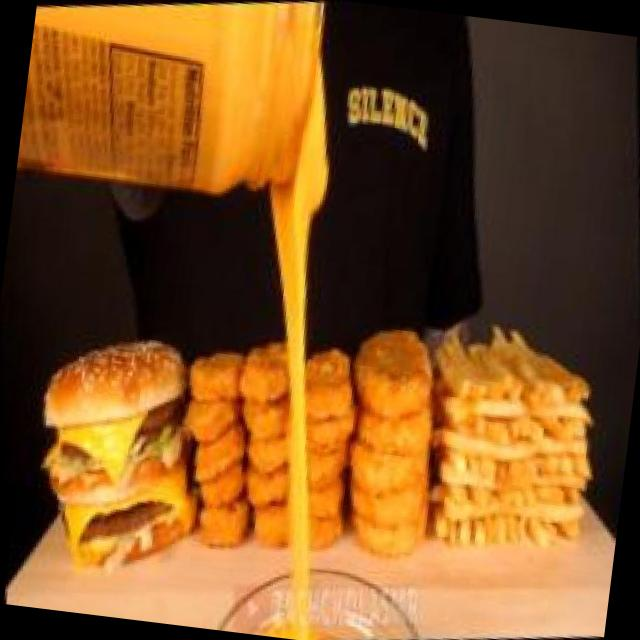Hashbrown: (320, 296, 472, 579)
burger: (0, 278, 239, 608)
french fries: (401, 292, 633, 586)
nugget: (152, 288, 382, 570)
tostitos cheese dip sauce: (6, 0, 381, 295)
